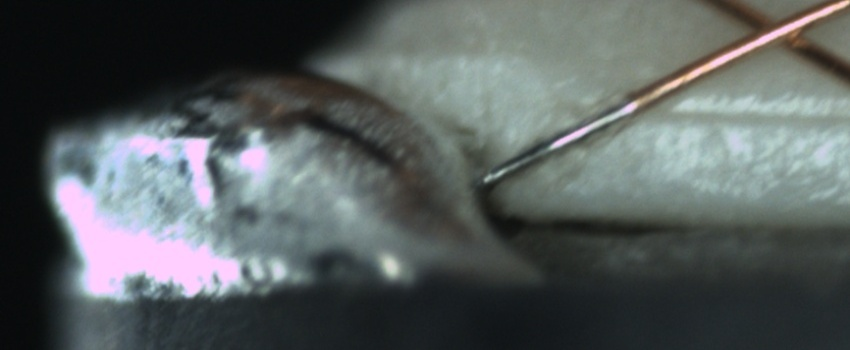CL: (711, 0, 838, 62)
DL: (640, 83, 850, 148)
TS: (478, 98, 638, 189)
